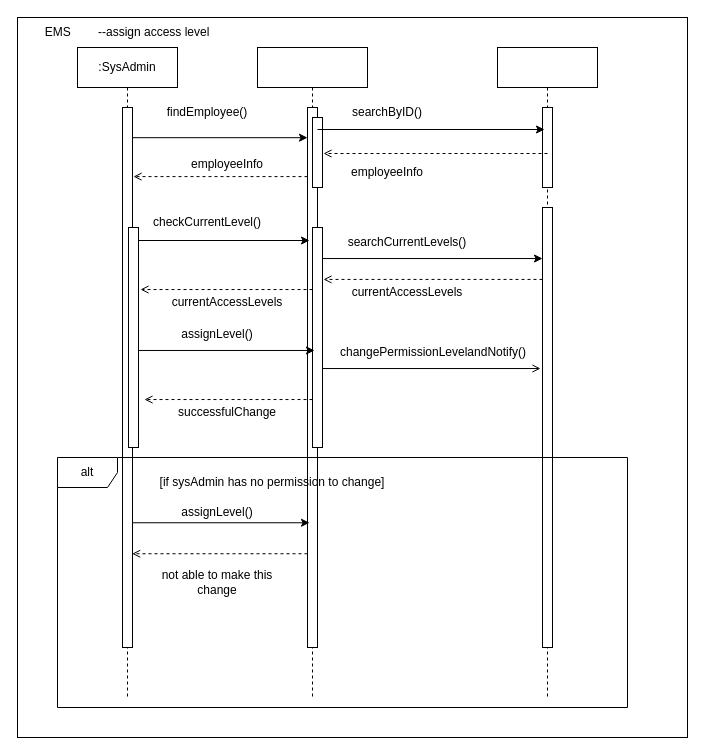
Image size: 705x755. Some labels were removed from this diagram. The shapes that lost their labels are listed below. From the top down, each one's box as (x1, y1, x2, y2) in pixels, then its label:
(256, 46, 368, 698): :System
(496, 46, 598, 698): :Employee
